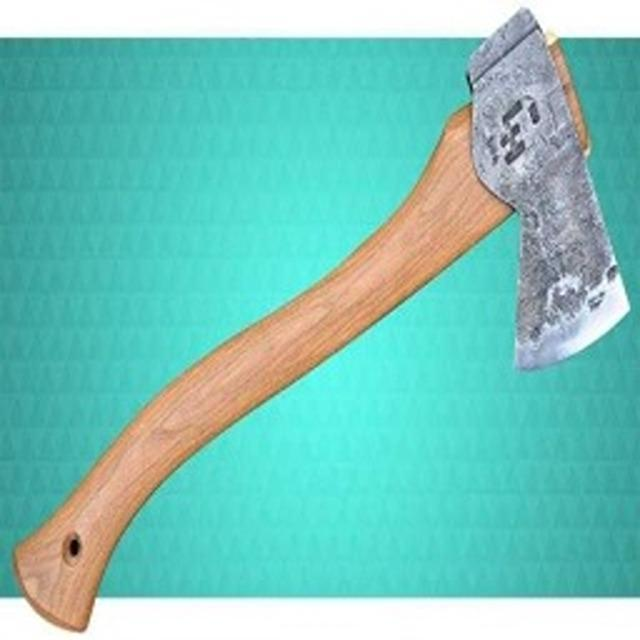ax: (6, 1, 635, 640)
